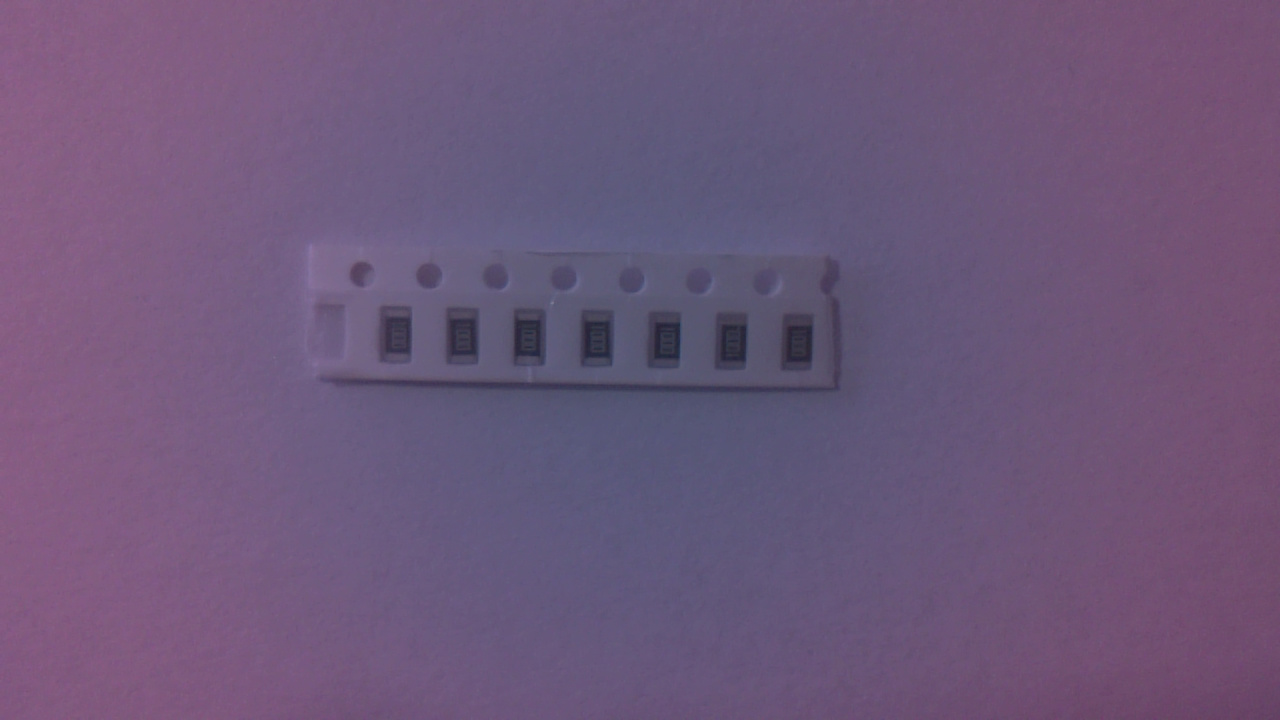Resistor: (584, 310, 622, 373), (449, 304, 485, 365), (655, 313, 689, 375), (720, 319, 756, 375), (516, 310, 550, 369), (387, 307, 419, 368), (788, 319, 822, 376)
